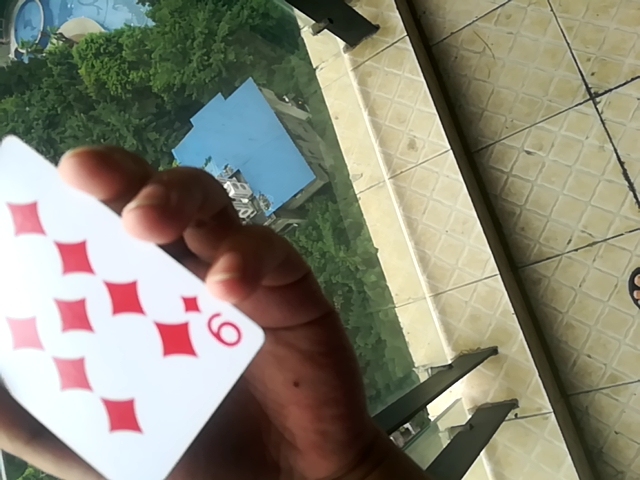fk 9: (4, 123, 263, 480)
